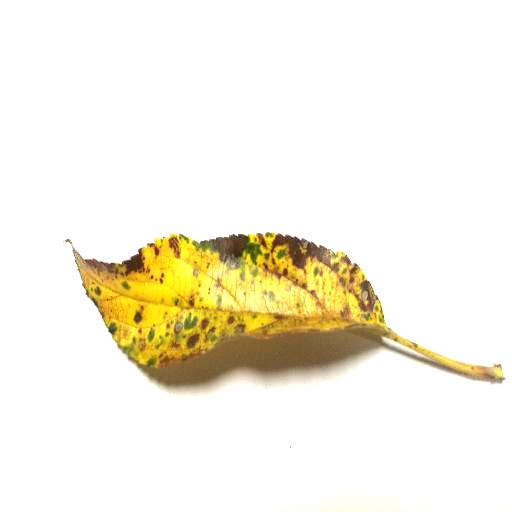Brown_Spot: (71, 258, 367, 334)
